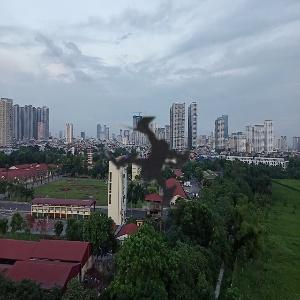drone: (16, 33, 282, 299)
